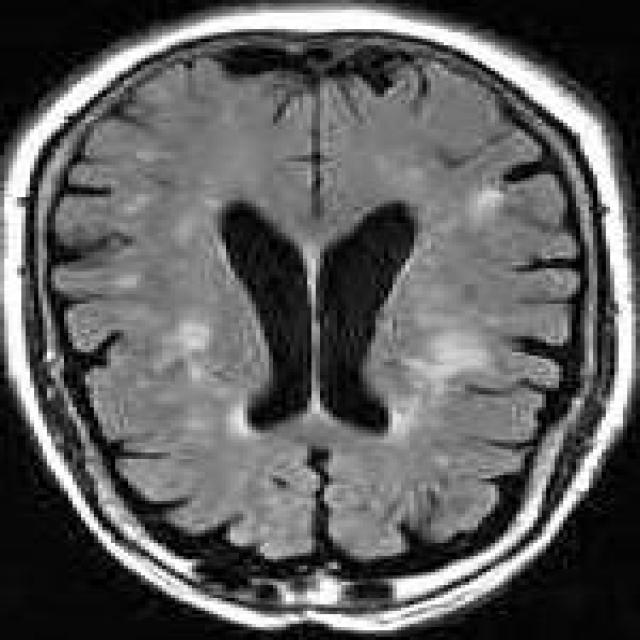notumor: (9, 16, 636, 637)
